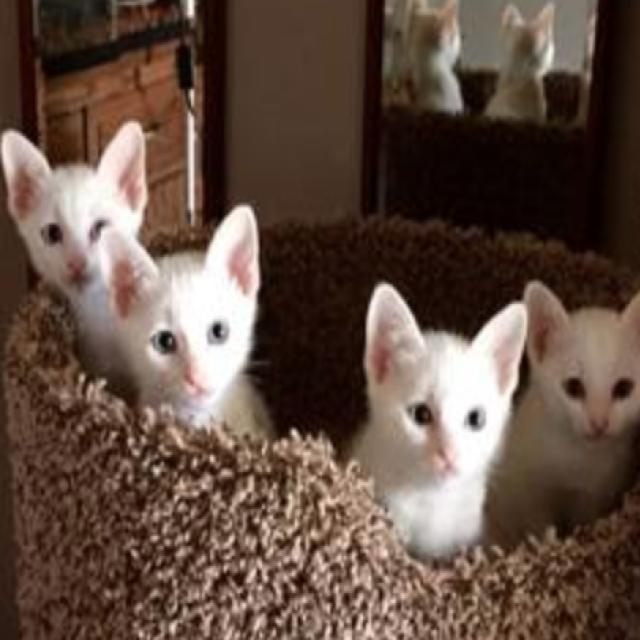Khao Manee: (341, 277, 525, 555), (101, 200, 281, 437), (501, 270, 640, 548), (0, 109, 151, 295)
